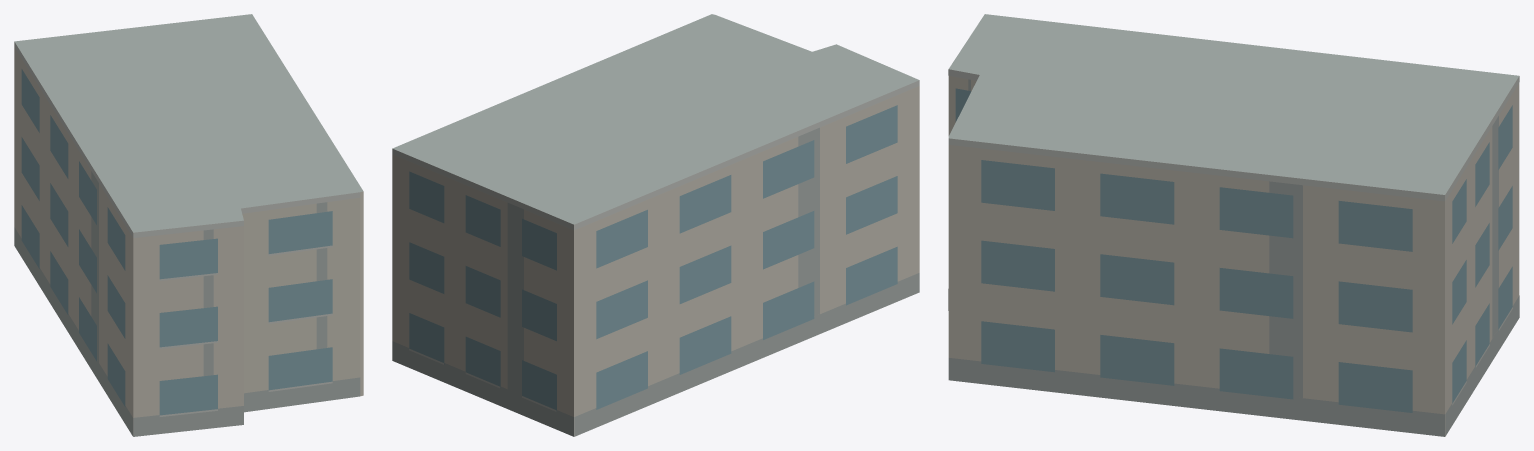
File: survey-upis-32585823.glb
3 views of the same model, side by side, from view 1: azimuth 30°, elevation 25°; view 2: azimuth 150°, elevation 25°; view 3: azimuth 270°, elevation 25° (orthographic). The views are drawn at different scales.
Parts seen in each view (by area): view 1: survey-upis-32585823.tmp; view 2: survey-upis-32585823.tmp; view 3: survey-upis-32585823.tmp.
Boxes of the visible parts, x1,y1,x2,y2 form: survey-upis-32585823.tmp: (14,14,363,436); survey-upis-32585823.tmp: (392,14,919,436); survey-upis-32585823.tmp: (948,14,1519,436).
Bounding box in the file's own units: 14.7 × 9.15 × 19.59.
